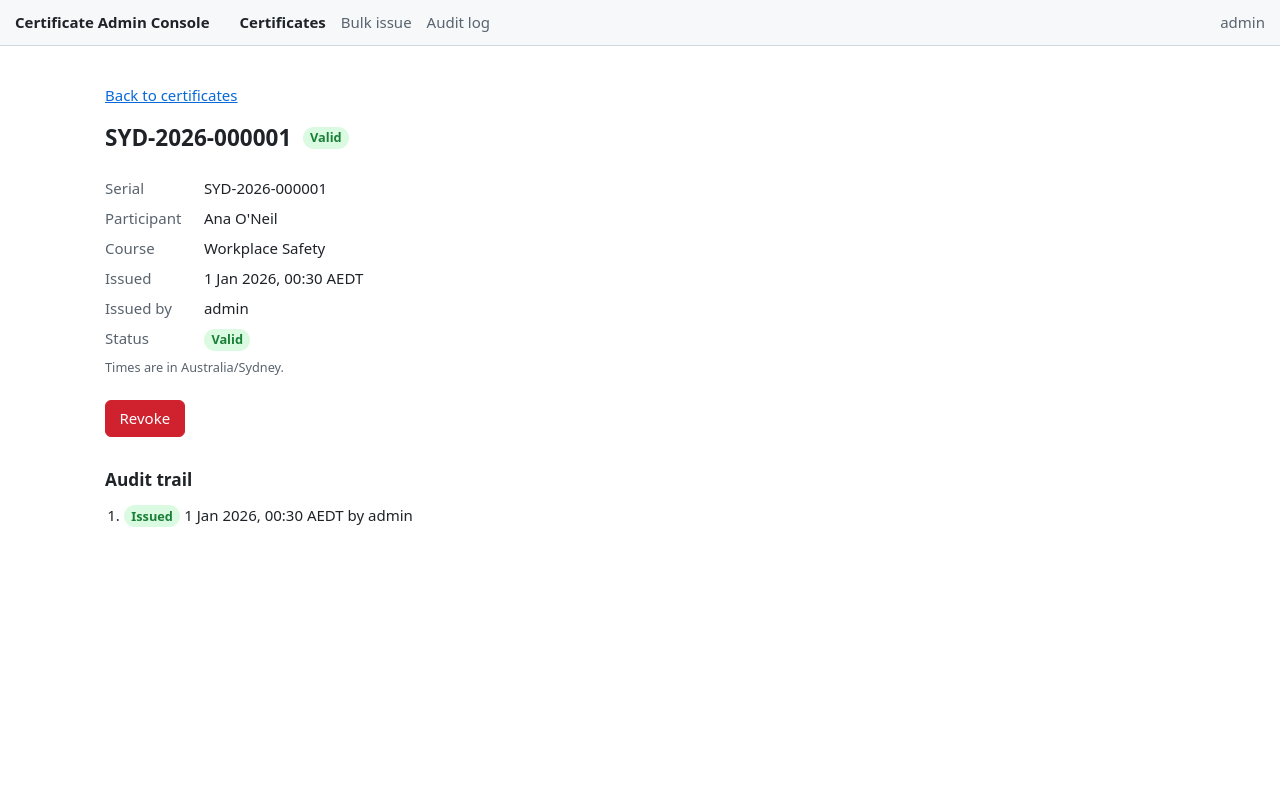
Test: CertificateDetailPage › revokes with a reason, then shows the revoked state and refreshes the list
This screenshot has width=1280, height=800.
Click the button "Revoke".
click(145, 418)  # box [105,400,185,436]
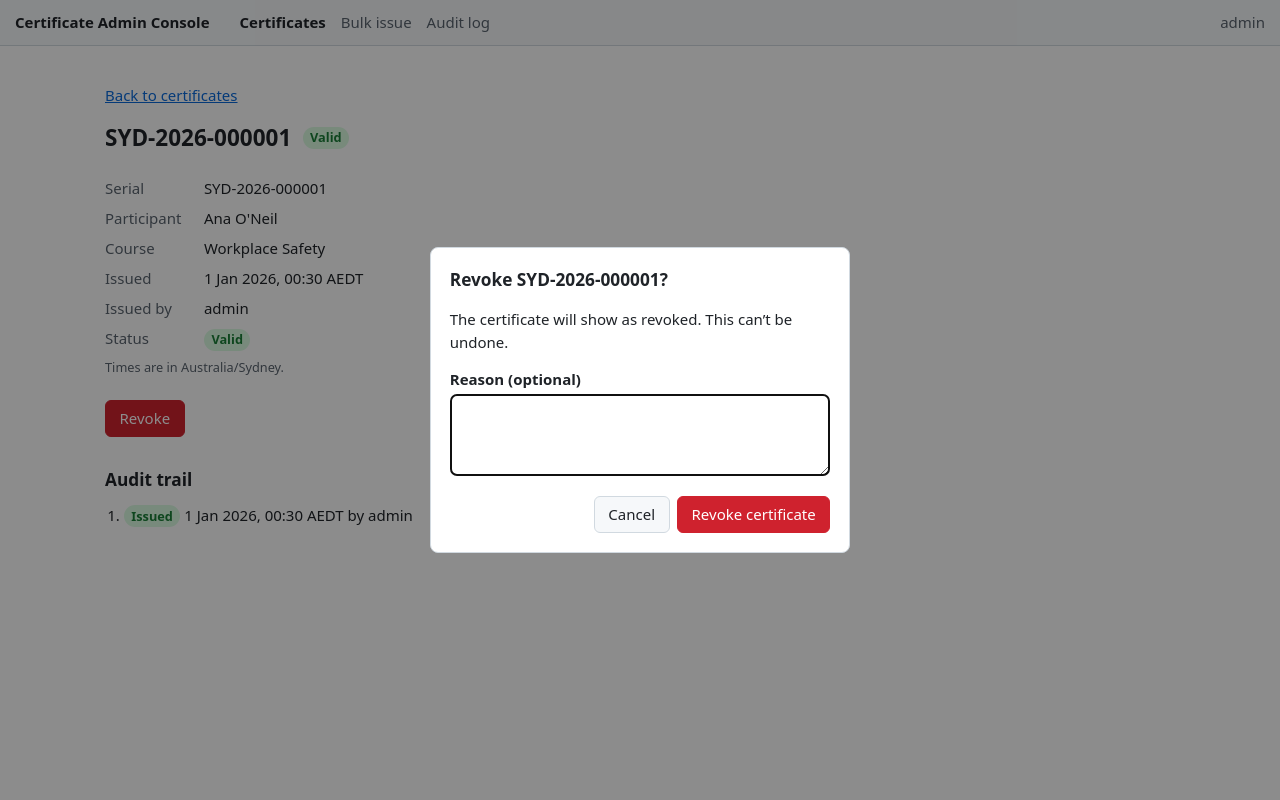
Type "Wrong course" into the text box labelled "Reason (optional)".
click(640, 435); type("Wrong course")  # box [450,394,830,476]
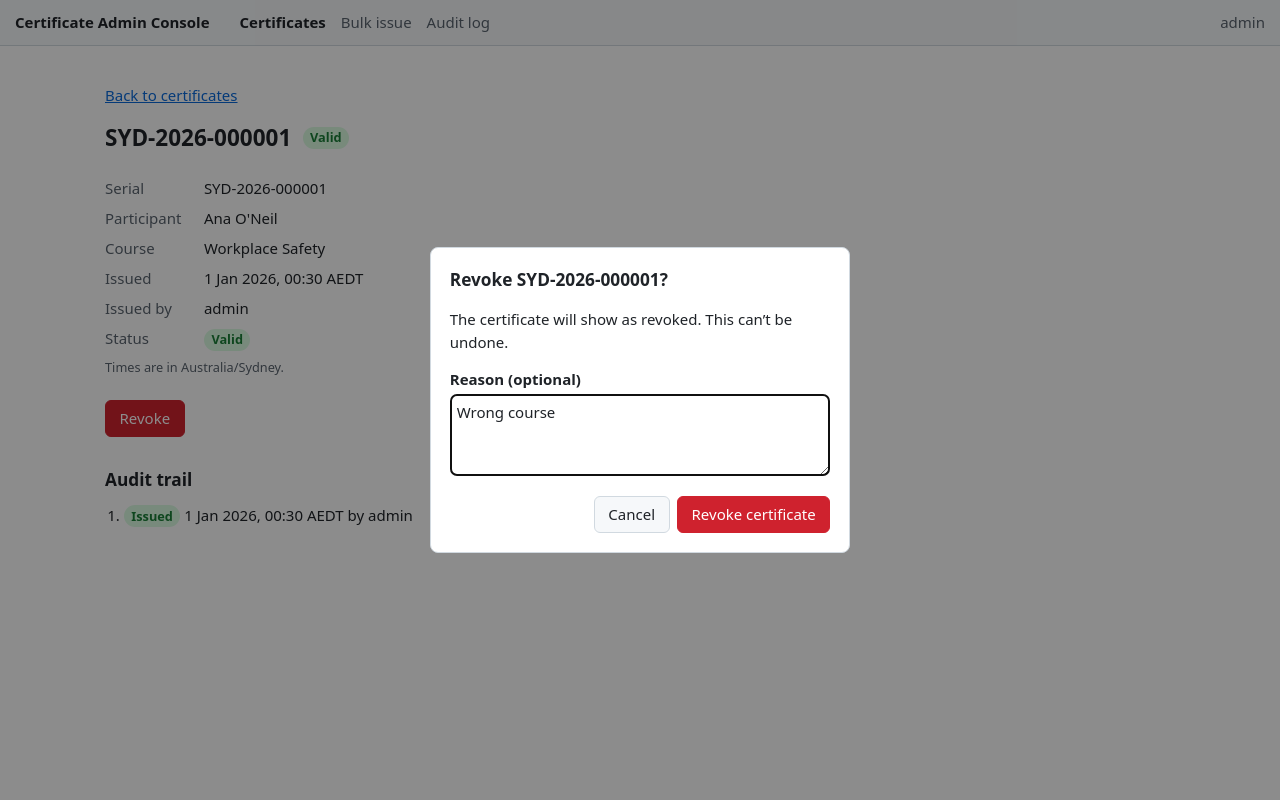
Click the button "Revoke certificate".
click(754, 515)  # box [677,496,830,533]
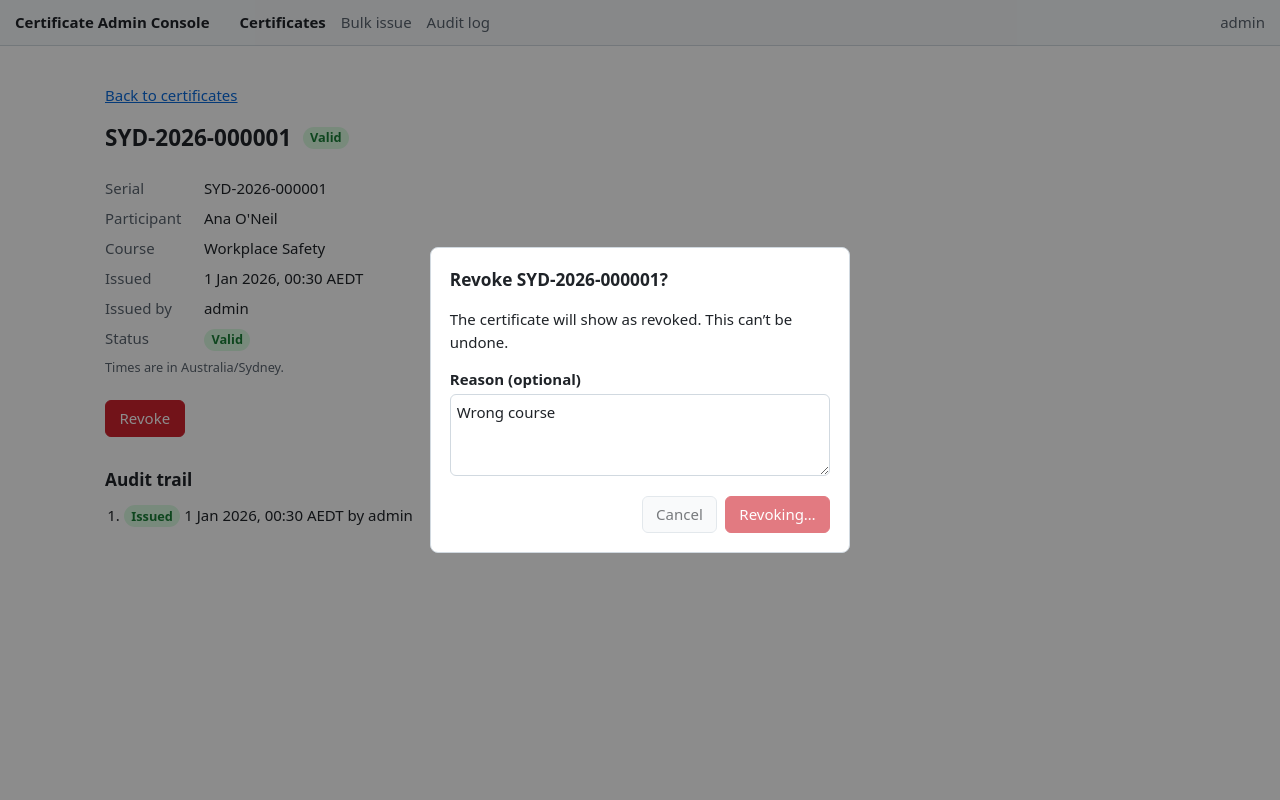
Expected: the button "Revoking…" is disabled
Click the button "Revoking…".
click(778, 515)  # box [725,496,830,533]
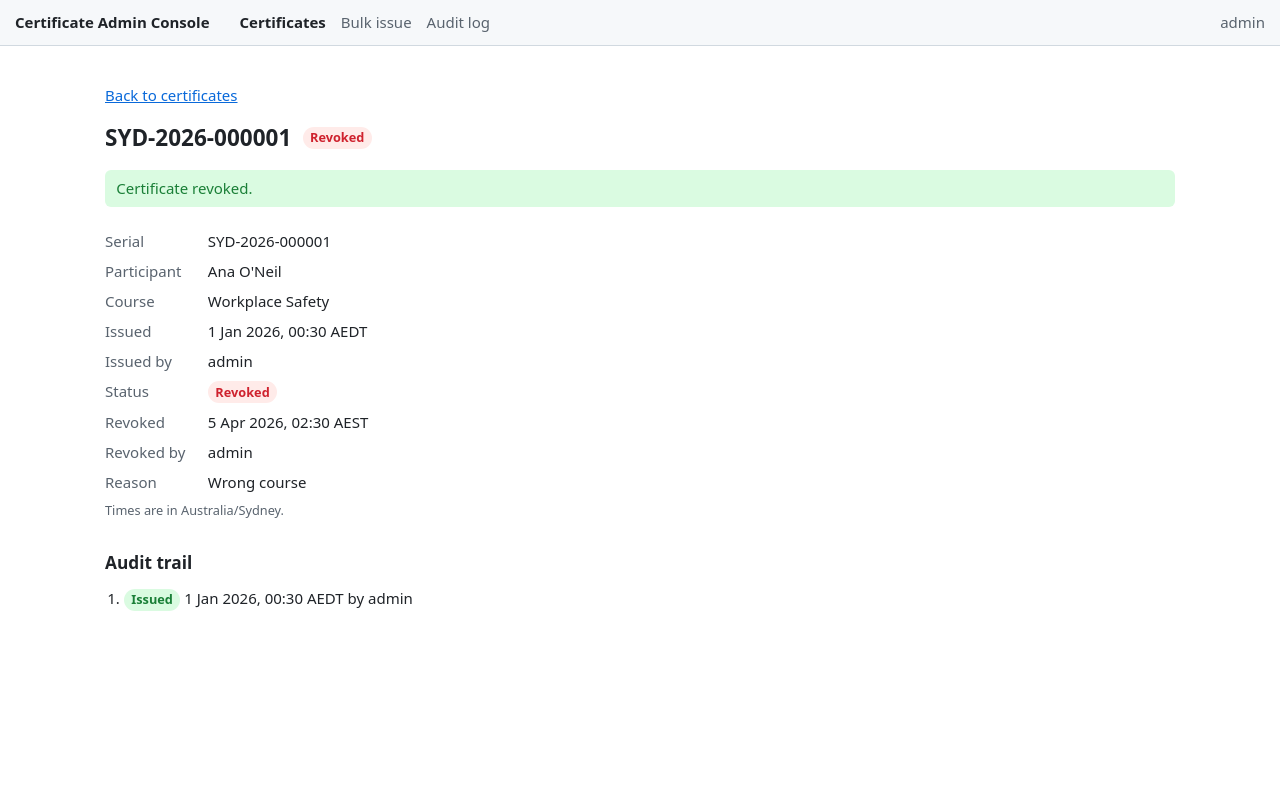
Expected: the dialog is gone
Expected: the message reads "Certificate revoked.", [116,178,253,198]
Expected: the 1st text "Revoked" is shown, [302,127,372,149]
